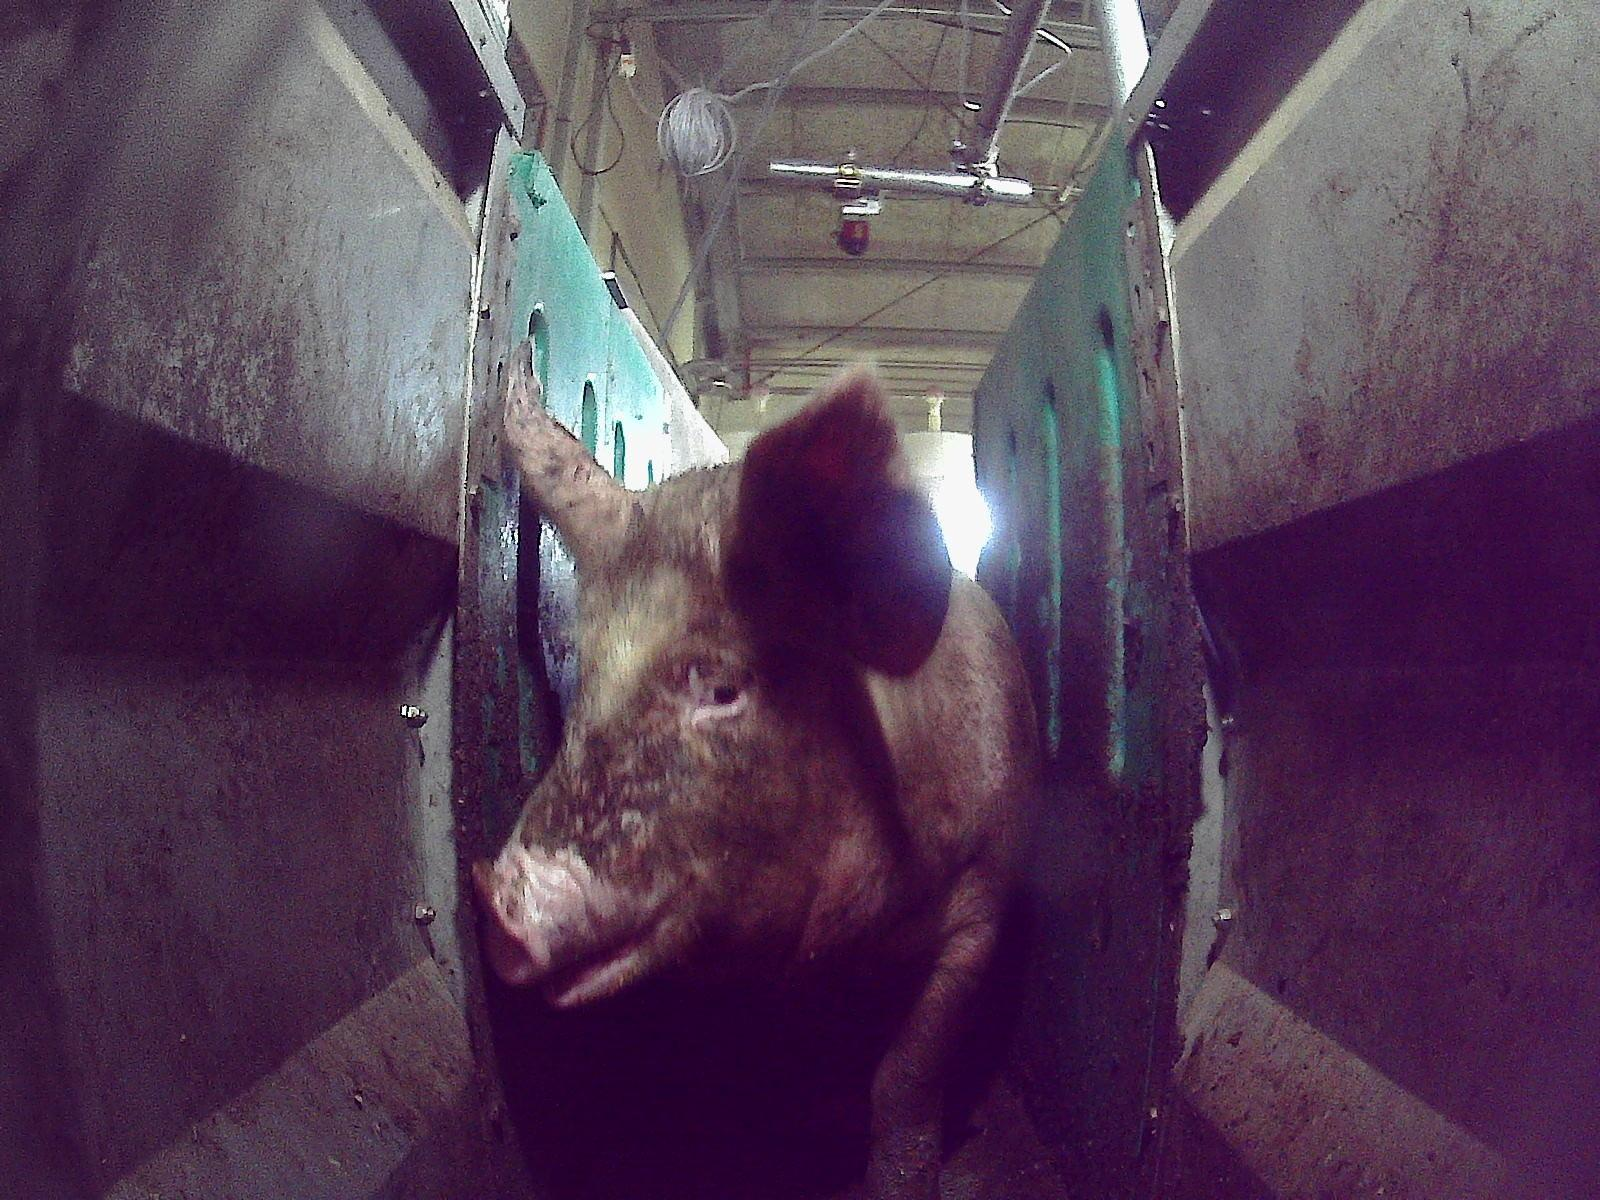Face: (469, 478, 929, 1004)
